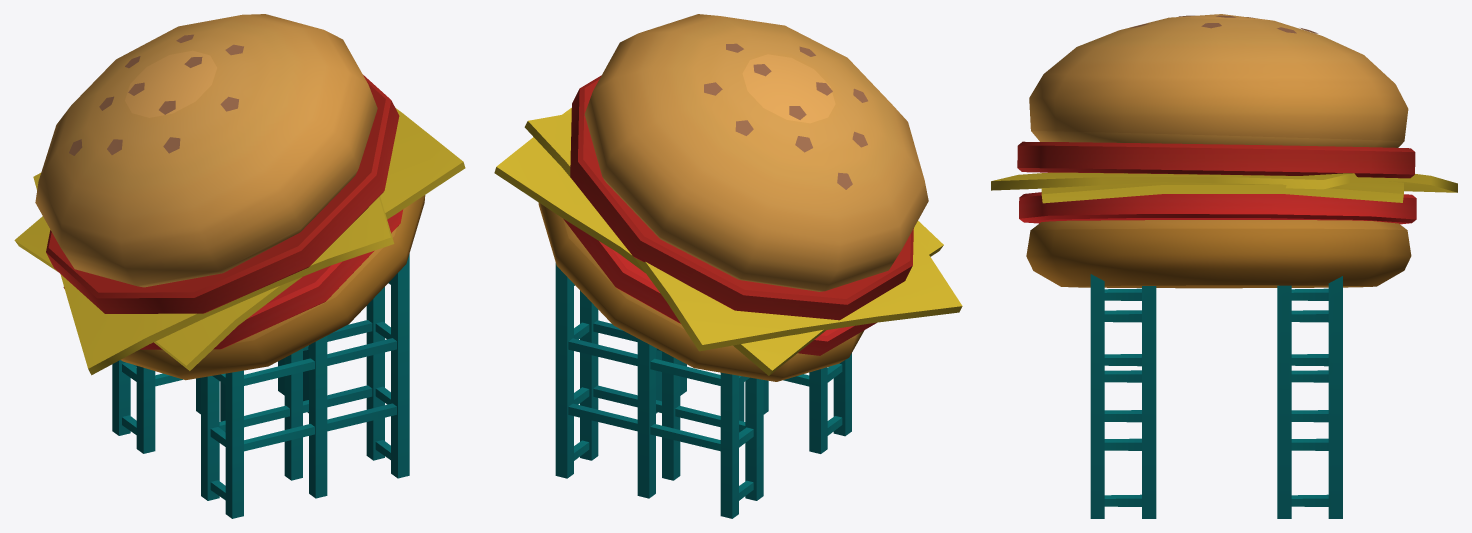
Rendered from BurgerSign_2_B.fbx.
3 views of the same model, side by side, from view 1: azimuth 30°, elevation 25°; view 2: azimuth 150°, elevation 25°; view 3: azimuth 270°, elevation 25° (orthographic). The views are drawn at different scales.
Visible parts, largest first — view 1: BurgerSign_2_B; view 2: BurgerSign_2_B; view 3: BurgerSign_2_B.
Boxes of the visible parts, box(x1,y1,x2,y2) form: BurgerSign_2_B: box(14, 14, 465, 518); BurgerSign_2_B: box(494, 14, 962, 518); BurgerSign_2_B: box(991, 14, 1457, 518).
Bounding box in the file's own units: 358 × 402 × 388.
